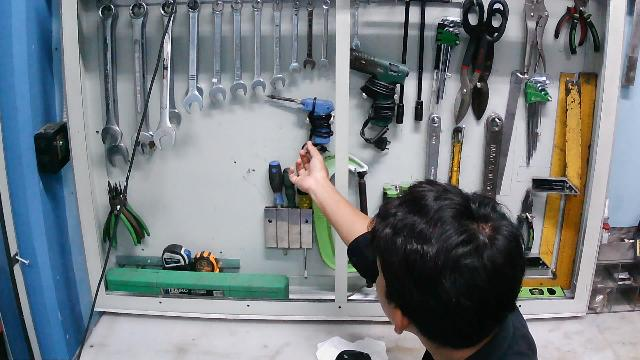solder_electrical: (265, 91, 337, 157)
